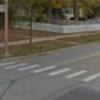crosswalks: (62, 68, 100, 82), (32, 64, 64, 76), (1, 62, 34, 72)
